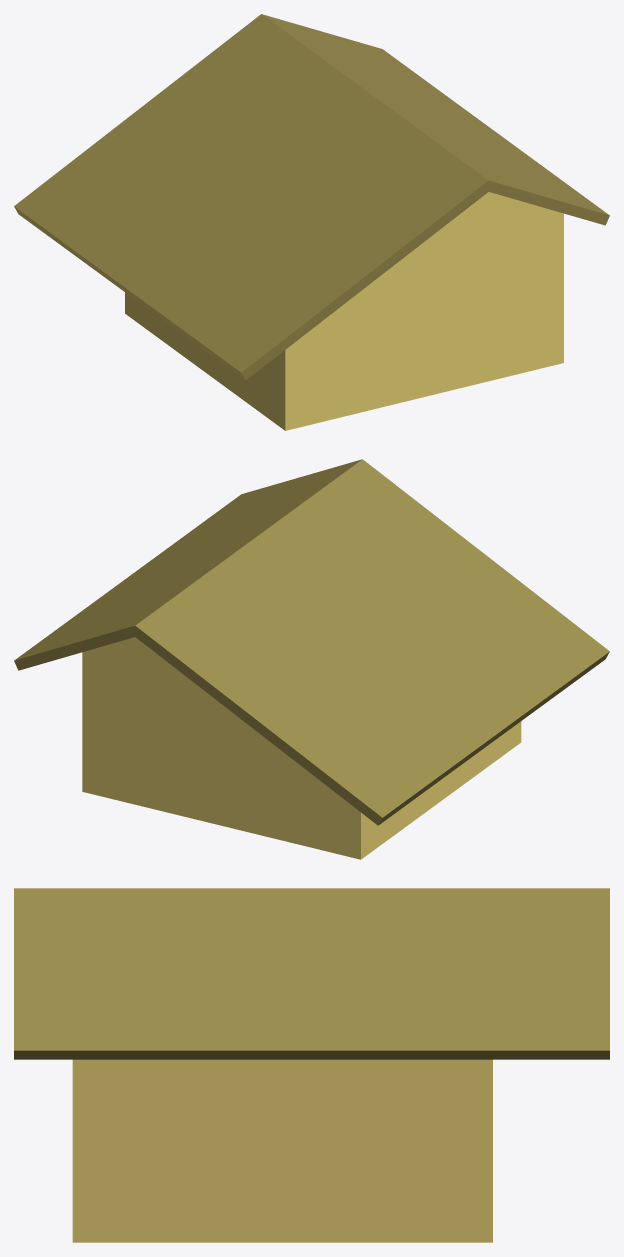
The model's file is result.glb.
3 views of the same model, one above another, from view 1: azimuth 30°, elevation 25°; view 2: azimuth 150°, elevation 25°; view 3: azimuth 270°, elevation 25° (orthographic). The views are drawn at different scales.
Visible parts, largest first — view 1: 0b0d985d-8460-4c9f-92b4-42029d5eef5b__undefined (×2), 61e754ee-740c-4bd1-b1f5-7c3e6cf7a71a__undefined; view 2: 0b0d985d-8460-4c9f-92b4-42029d5eef5b__undefined (×2), 61e754ee-740c-4bd1-b1f5-7c3e6cf7a71a__undefined; view 3: 0b0d985d-8460-4c9f-92b4-42029d5eef5b__undefined, 61e754ee-740c-4bd1-b1f5-7c3e6cf7a71a__undefined.
Boxes of the visible parts, left/top/right/bottom form: 0b0d985d-8460-4c9f-92b4-42029d5eef5b__undefined (×2): left=14, top=14, right=609, bottom=380; 61e754ee-740c-4bd1-b1f5-7c3e6cf7a71a__undefined: left=125, top=192, right=563, bottom=430; 0b0d985d-8460-4c9f-92b4-42029d5eef5b__undefined (×2): left=14, top=459, right=609, bottom=825; 61e754ee-740c-4bd1-b1f5-7c3e6cf7a71a__undefined: left=82, top=637, right=521, bottom=859; 0b0d985d-8460-4c9f-92b4-42029d5eef5b__undefined: left=14, top=888, right=609, bottom=1059; 61e754ee-740c-4bd1-b1f5-7c3e6cf7a71a__undefined: left=72, top=1059, right=492, bottom=1242.
Bounding box in the file's own units: 953 × 550 × 1018.
